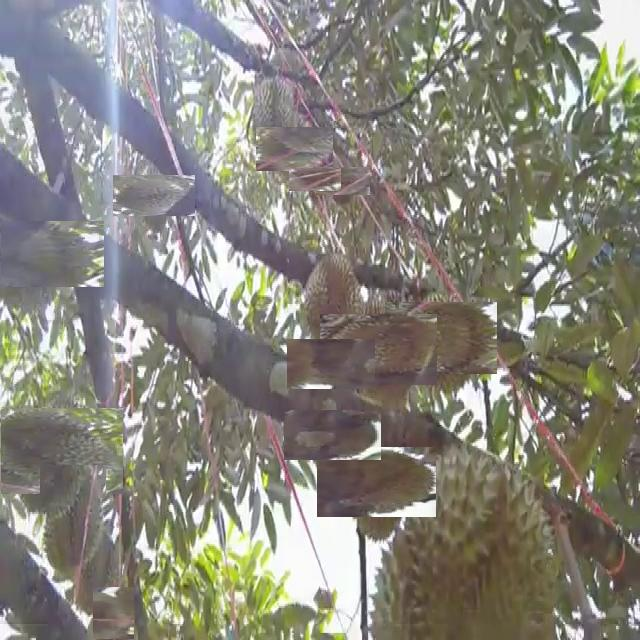durian: (367, 430, 556, 638), (2, 396, 111, 506), (329, 434, 424, 530), (0, 202, 86, 306), (331, 303, 426, 397), (395, 292, 487, 385), (40, 465, 106, 576), (296, 247, 364, 345), (62, 526, 122, 618), (296, 398, 370, 472), (249, 71, 298, 170), (296, 330, 366, 399), (123, 164, 185, 227), (264, 118, 325, 179), (88, 591, 139, 640), (322, 160, 363, 201), (296, 161, 335, 198)
